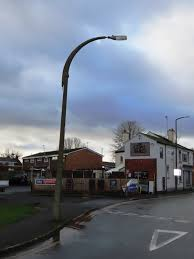light_pole: (47, 42, 73, 250)
